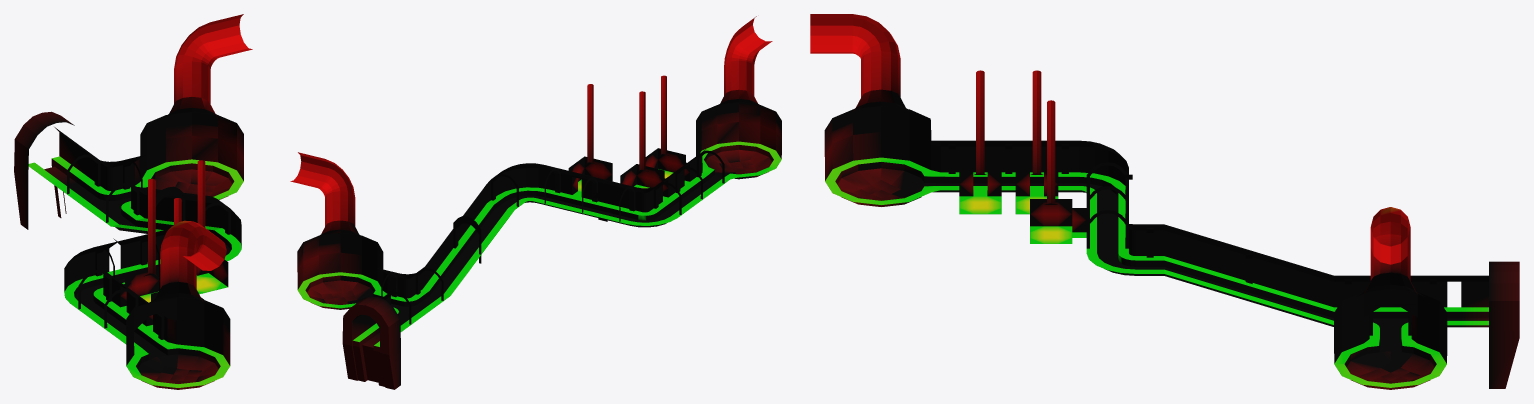
The model's file is canal_3.glb.
The picture shows the model from 3 angles, left to right: view 1: azimuth 30°, elevation 25°; view 2: azimuth 150°, elevation 25°; view 3: azimuth 270°, elevation 25°; orthographic projection. The views are drawn at different scales.
Parts seen in each view (by area): view 1: Canal_3, Canal_3_Supports; view 2: Canal_3, Canal_3_Supports; view 3: Canal_3, Canal_3_Supports.
Boxes of the visible parts, x1,y1,x2,y2 form: Canal_3: (14,14,252,389); Canal_3_Supports: (67,154,230,339); Canal_3: (290,16,781,389); Canal_3_Supports: (381,150,724,324); Canal_3: (810,14,1519,389); Canal_3_Supports: (948,144,1436,335).
Size of the model in its own units: 31.03 by 21.41 by 50.16.
